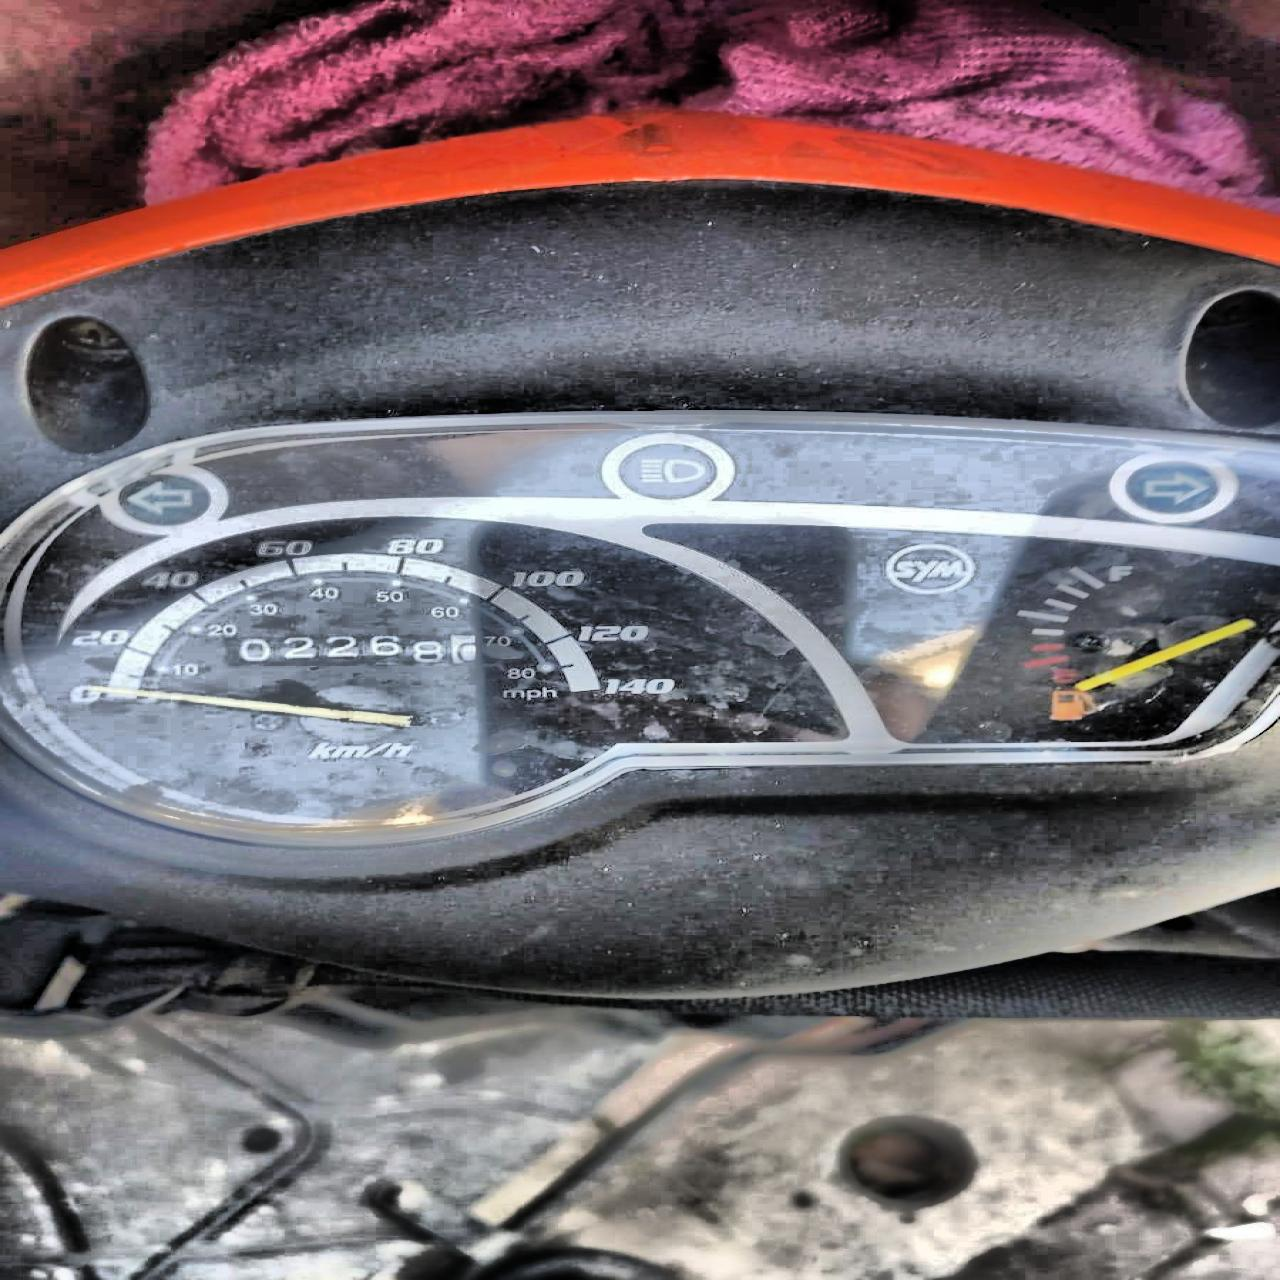0: (234, 636, 271, 662), (451, 640, 482, 665)
2: (321, 633, 360, 660), (281, 634, 316, 661)
6: (368, 633, 402, 656)
8: (411, 640, 445, 665)
odometer: (222, 632, 486, 672)
